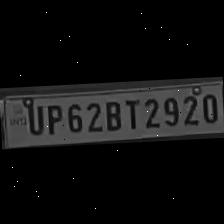0: (198, 88, 218, 124)
2: (82, 96, 102, 132), (179, 89, 199, 125), (140, 94, 160, 128)
6: (62, 99, 82, 134)
9: (158, 92, 178, 126)
B: (100, 96, 122, 130)
P: (42, 98, 64, 134)
T: (122, 94, 140, 130)
U: (21, 99, 43, 135)
